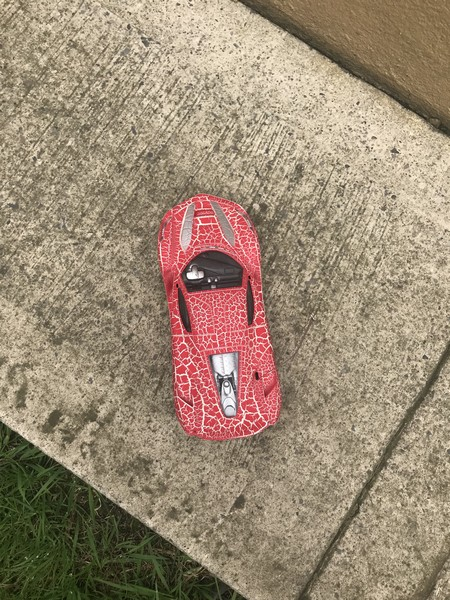RC: (154, 193, 282, 443)
